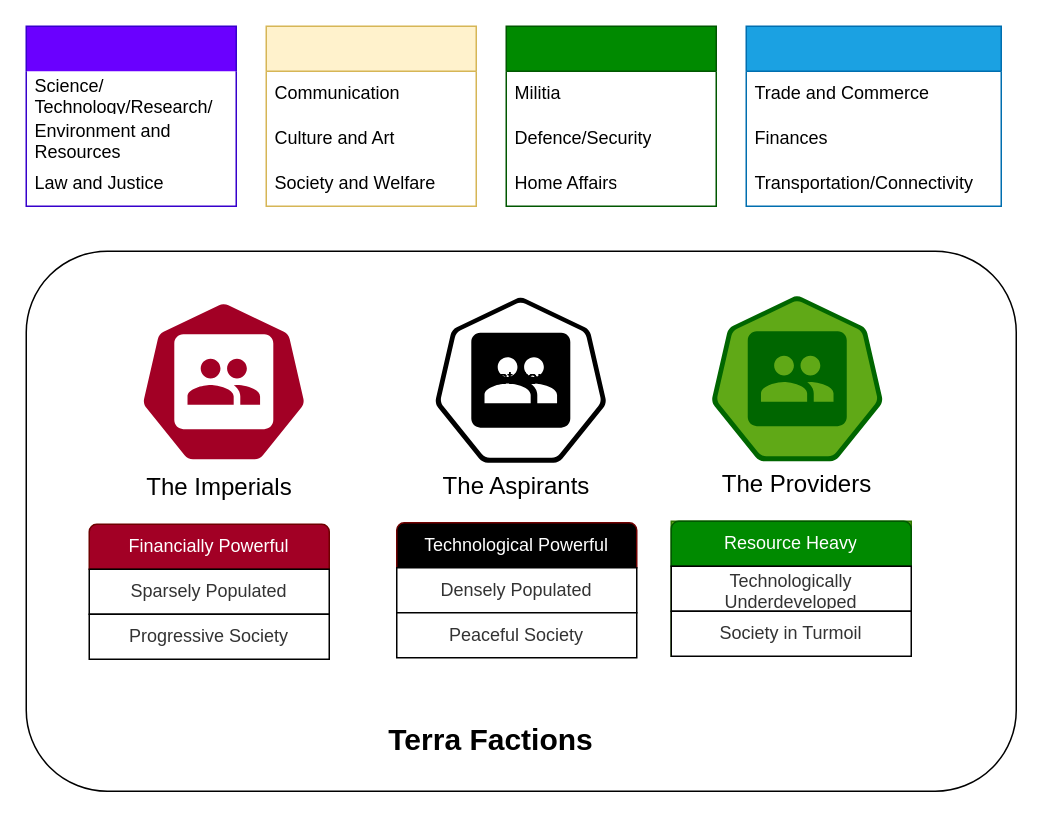
Some shapes in this 1043 by 818 pixel diagram are drawn without their labels. Each missing label, with the box of its shape:
Ministry for Peaceful People: (505, 25, 716, 206)
Ministry of Bounty: (745, 25, 1001, 206)
Ministry of Faith: (25, 25, 236, 206)
Ministry of Influence: (265, 25, 476, 206)
